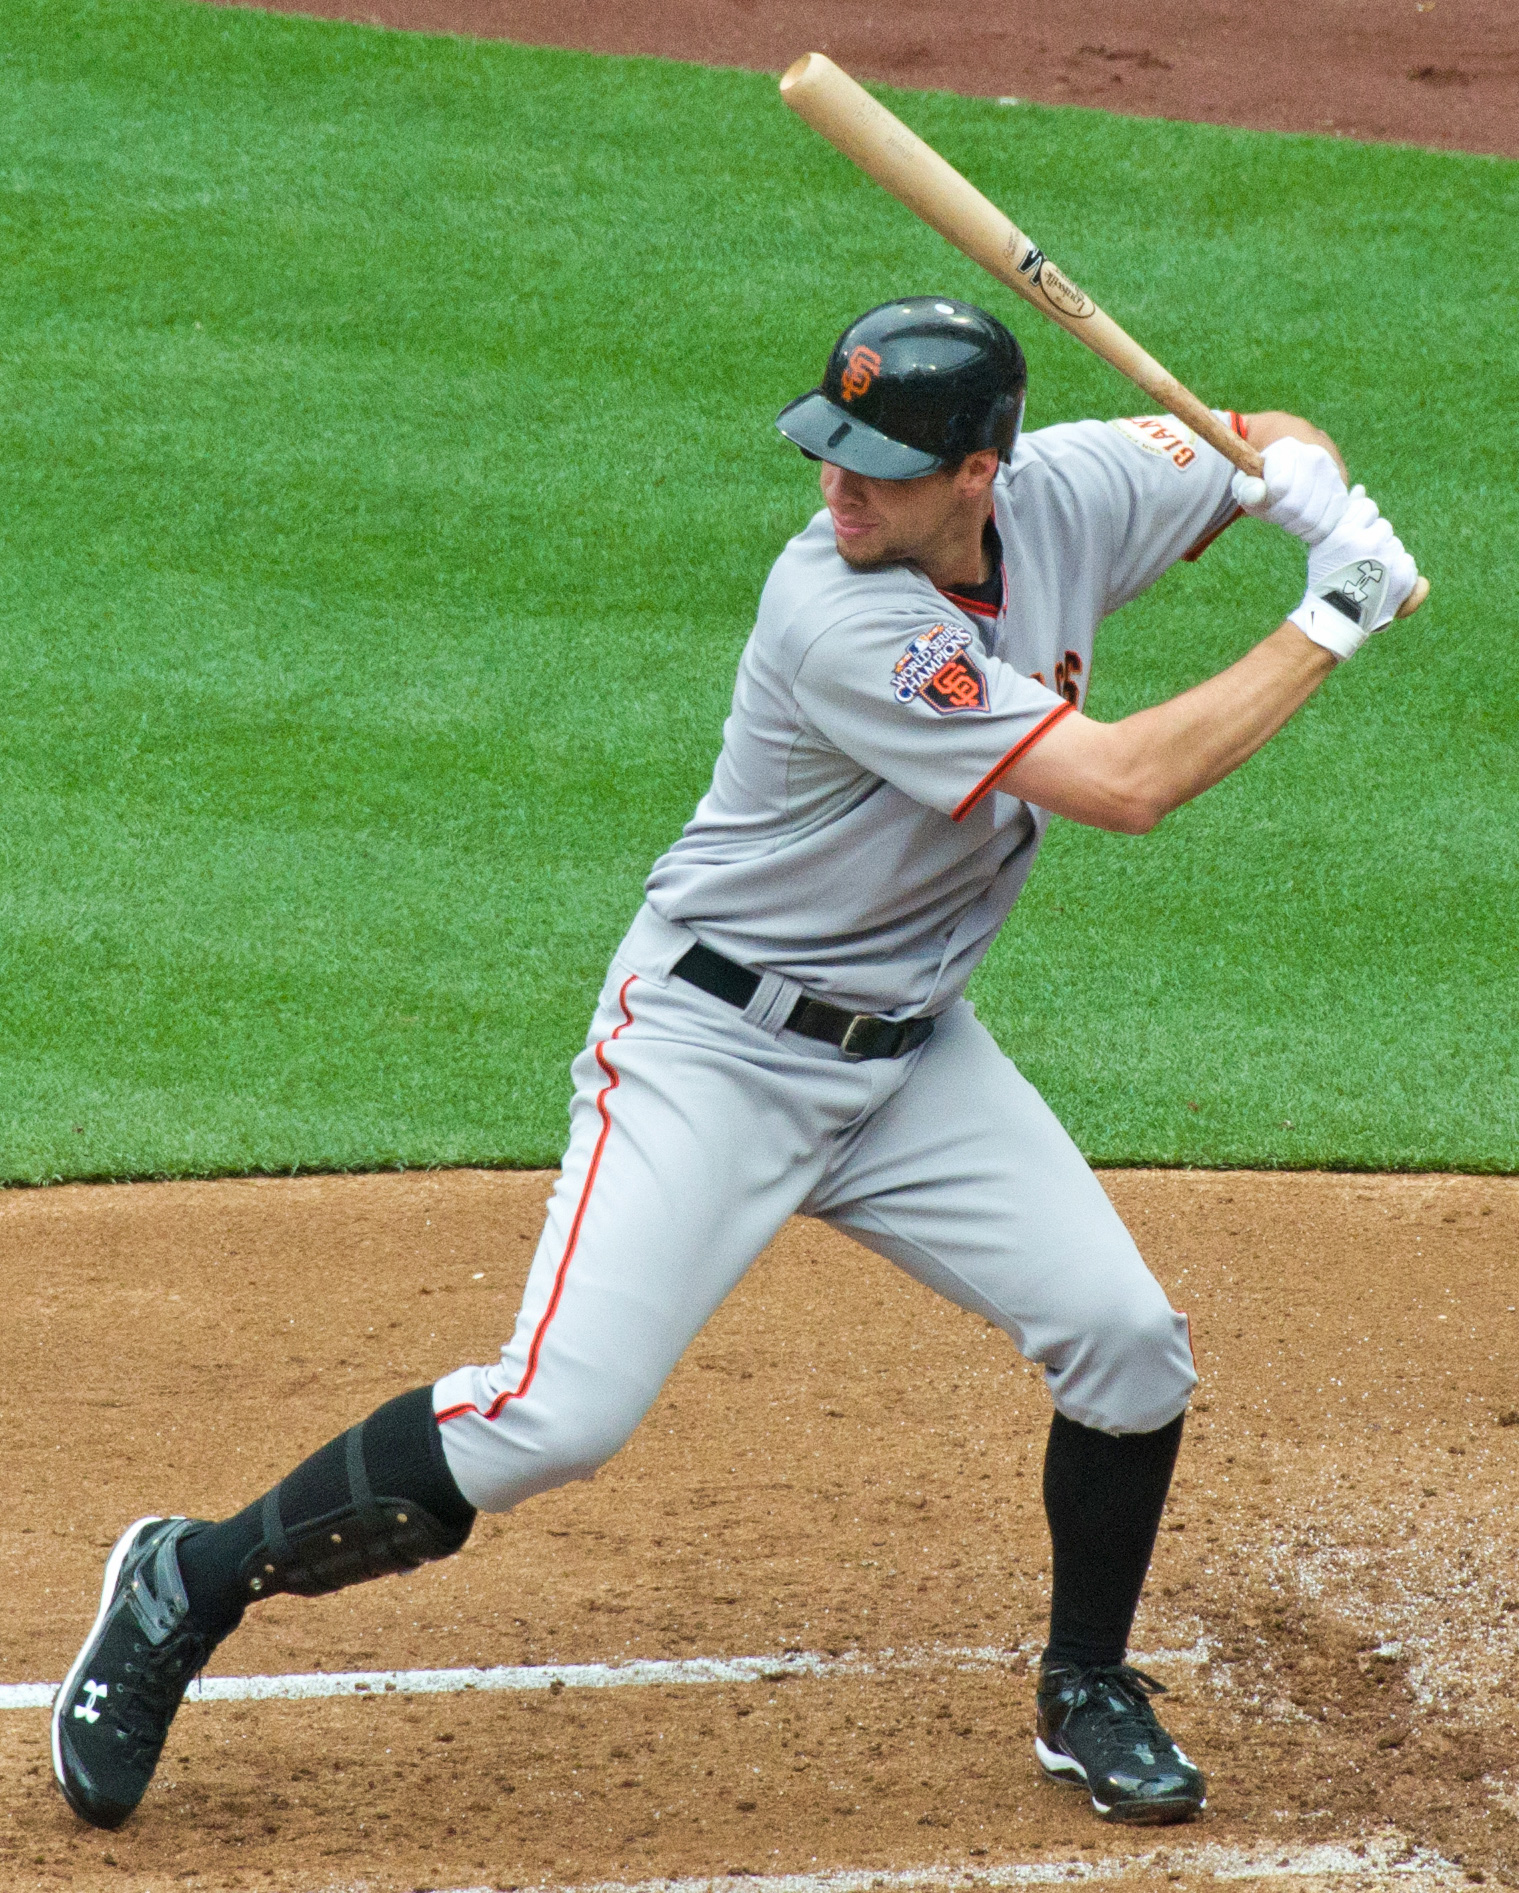Hip: (691, 912, 953, 1048)
LeftAnkle: (1014, 1600, 1211, 1815)
LeftKnee: (1042, 1228, 1206, 1484)
RightAnkle: (34, 1420, 214, 1825)
RightElbow: (1097, 679, 1214, 874)
RightKnee: (457, 1222, 584, 1588)
RightShoulder: (783, 524, 1031, 884)
